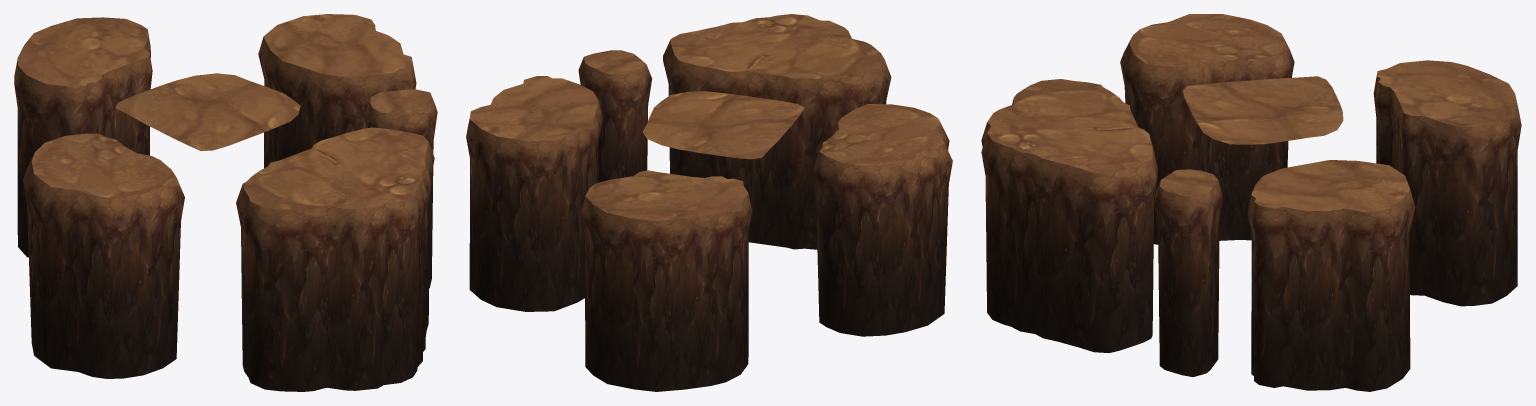
Rendered from dimian.FBX.
3 views of the same model, side by side, from view 1: azimuth 30°, elevation 25°; view 2: azimuth 150°, elevation 25°; view 3: azimuth 270°, elevation 25° (orthographic). The views are drawn at different scales.
Visible parts, largest first — view 1: xuanya, dimian; view 2: xuanya, dimian; view 3: xuanya, dimian.
Boxes of the visible parts, box(x1,y1,x2,y2) form: xuanya: box(14, 29, 437, 391); dimian: box(18, 14, 431, 210); xuanya: box(466, 39, 952, 391); dimian: box(469, 14, 944, 220); xuanya: box(981, 36, 1521, 391); dimian: box(987, 14, 1517, 212).
Bounding box in the file's own units: 2869 × 1180 × 3221.
